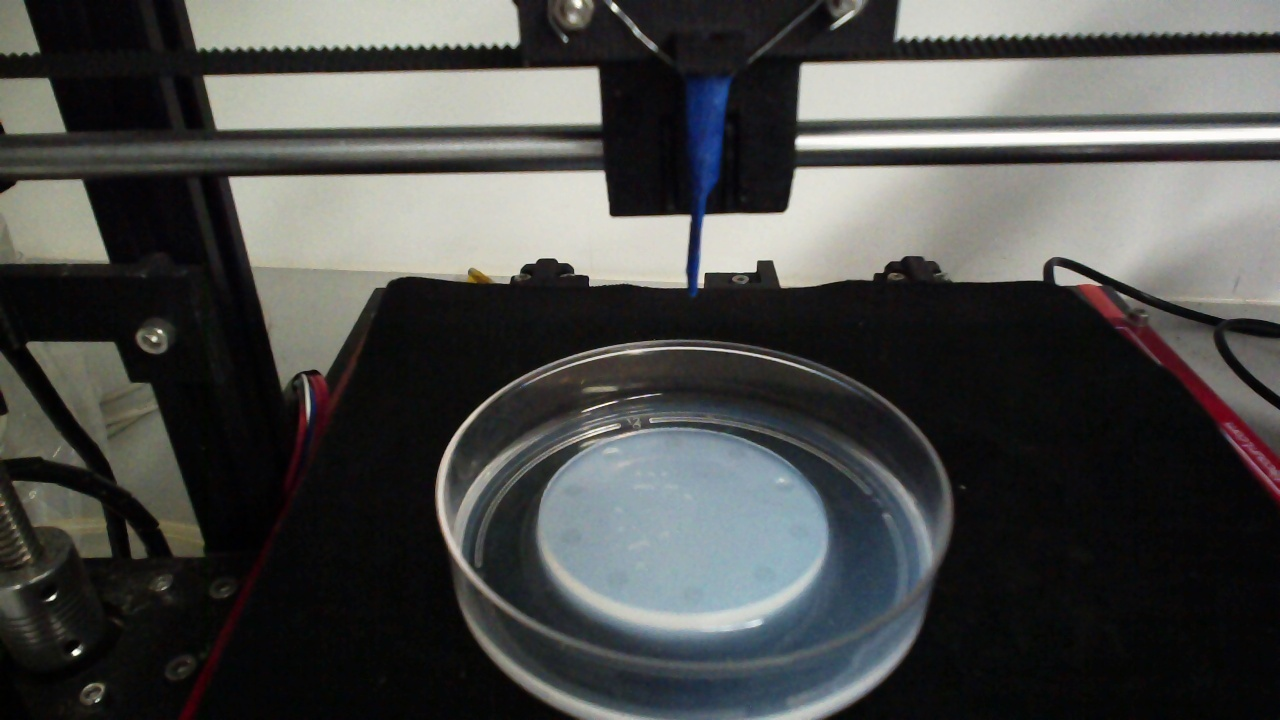groove: (680, 583, 706, 606), (752, 565, 777, 587), (557, 526, 582, 548), (561, 480, 587, 500), (724, 442, 748, 462), (606, 567, 630, 587), (662, 433, 687, 451), (771, 476, 796, 494), (787, 521, 810, 540), (600, 447, 624, 463)
needle: (688, 78, 731, 298)
